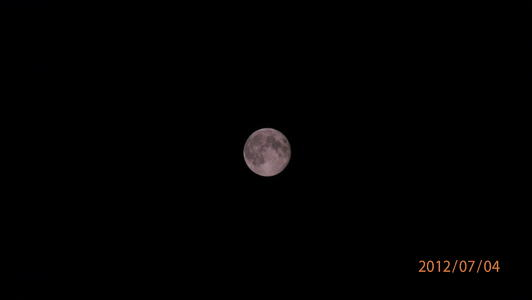moon: (241, 127, 291, 177)
